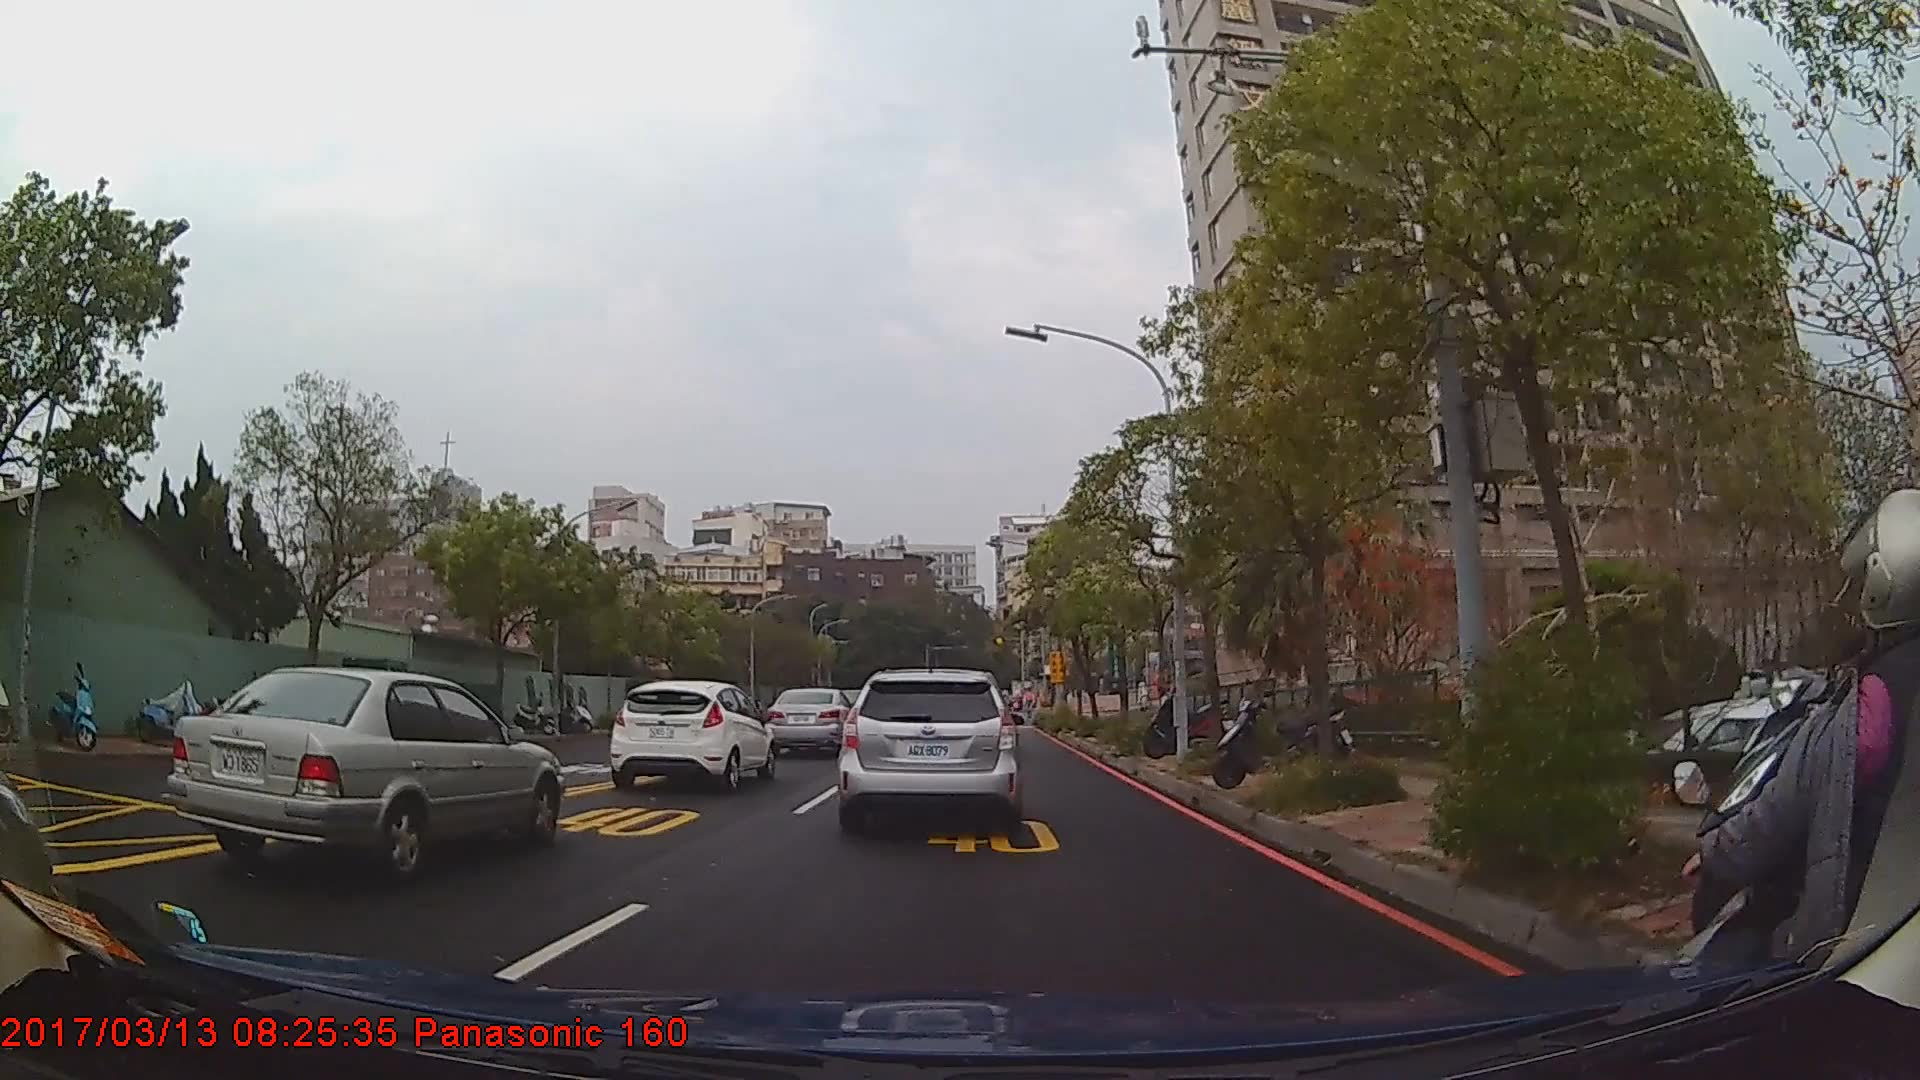rider: (1671, 487, 1920, 1080)
vehicle: (164, 665, 567, 876), (839, 665, 1020, 825), (609, 678, 777, 788), (768, 687, 859, 755)
